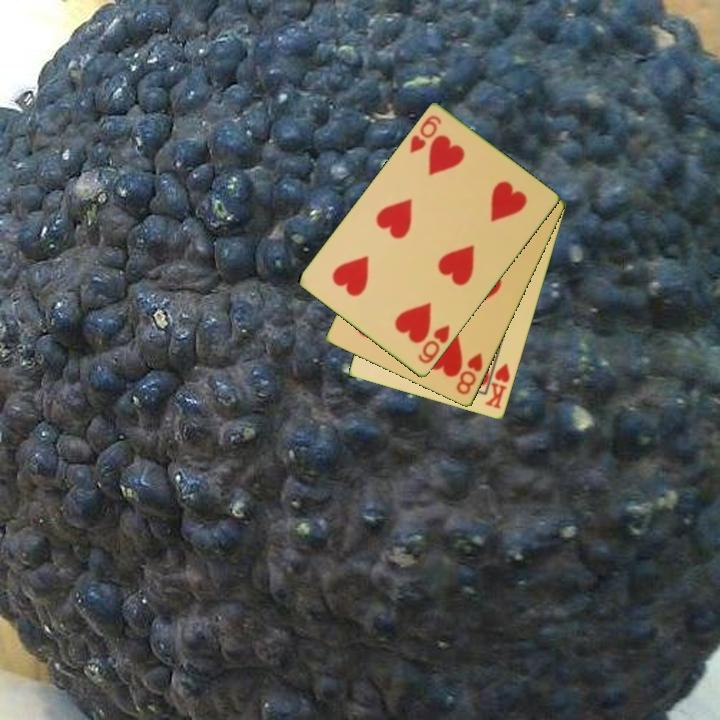6h: (414, 322, 453, 367), (406, 112, 444, 157)
8h: (452, 350, 486, 398)
Kh: (482, 355, 513, 412)
